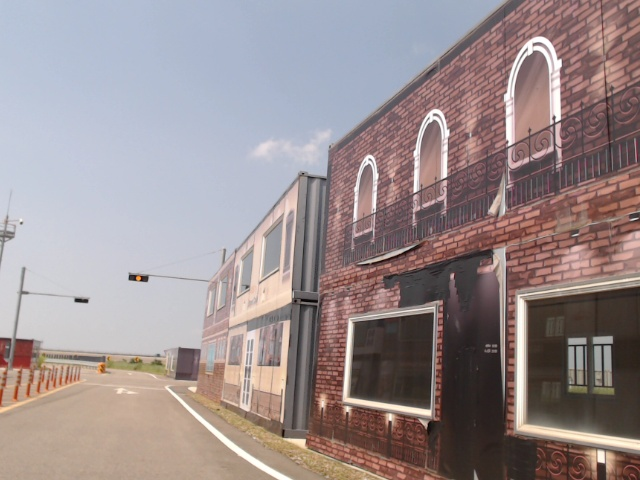orange_3: (128, 274, 149, 281)
